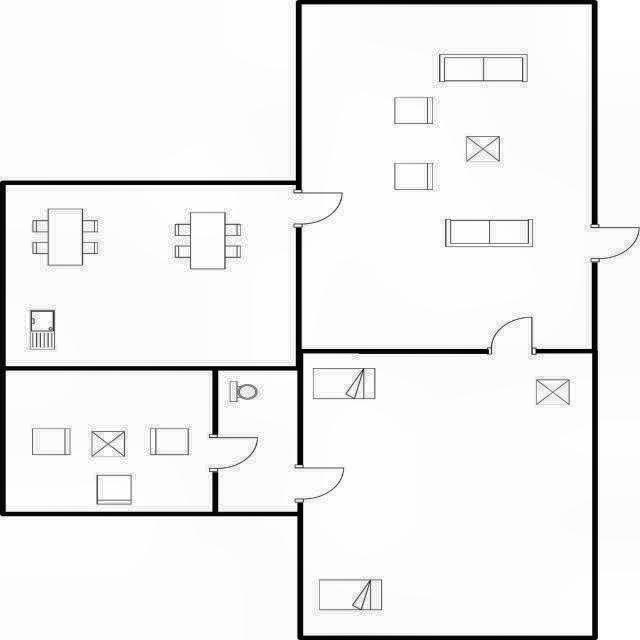room: (302, 5, 592, 349), (304, 354, 591, 635), (7, 185, 296, 366), (5, 370, 212, 512), (218, 371, 296, 512)
